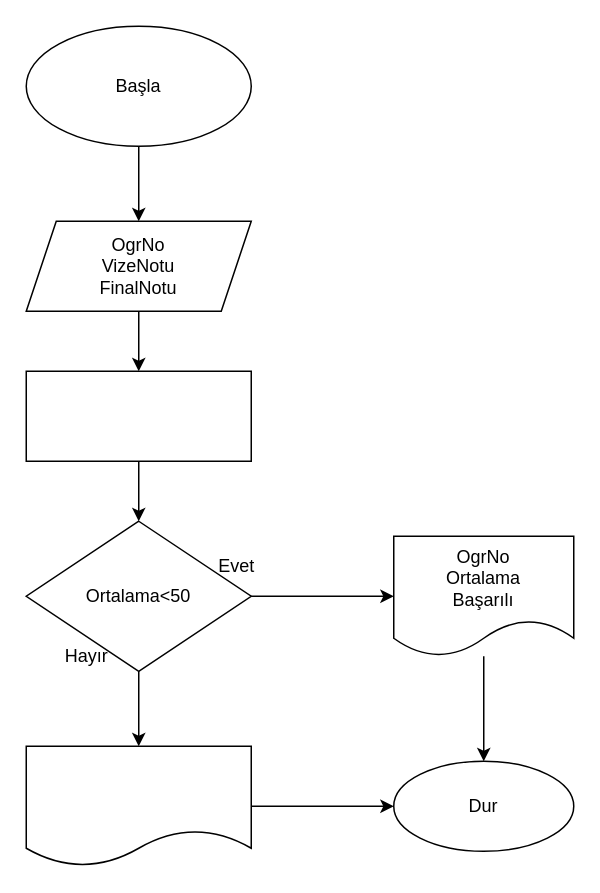
This 600x893 diagram has some shape labels left out. Here are the shapes that lost their labels. From the top down, the centre of each, then its label:
At [138,415]: "Ortalama=(VizeNotu*4)+(FinalNotu*6)/10".
At [138,805]: "OgrNo Ortalama Başarısız".
